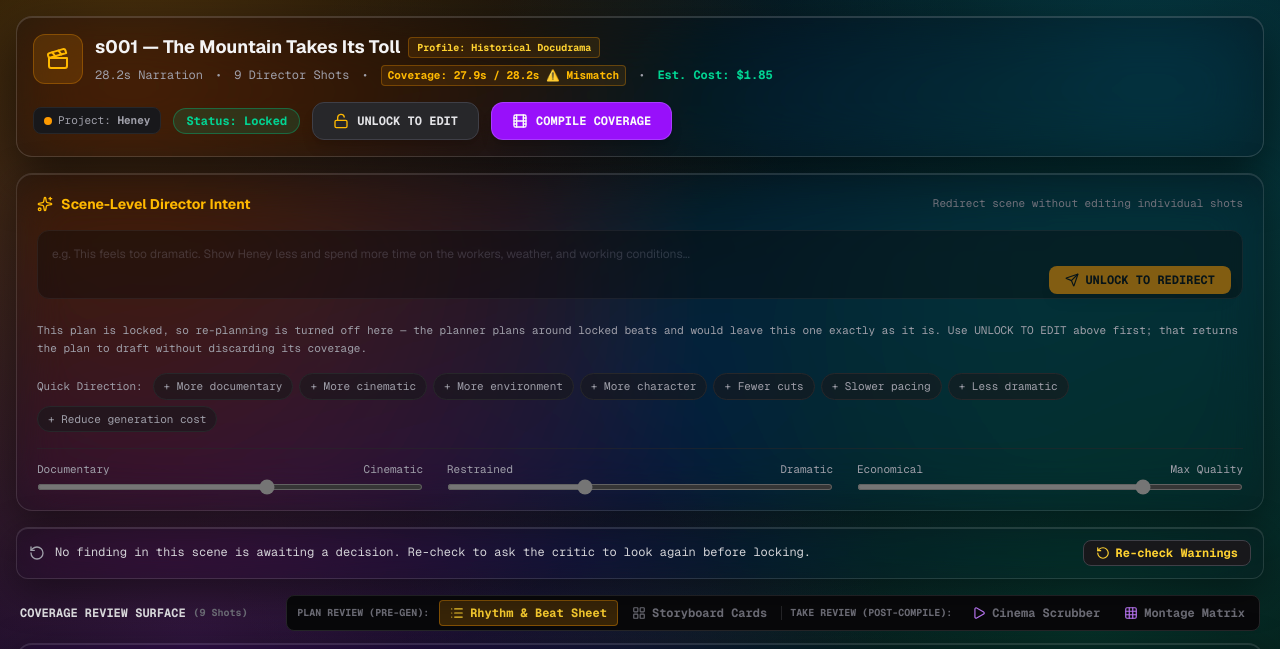
it: the compile is a long-running job › a second click cannot start a second compile for the same beat
Click the button with test id "compile-open-gate".
click(582, 121)  # box [491,102,672,140]
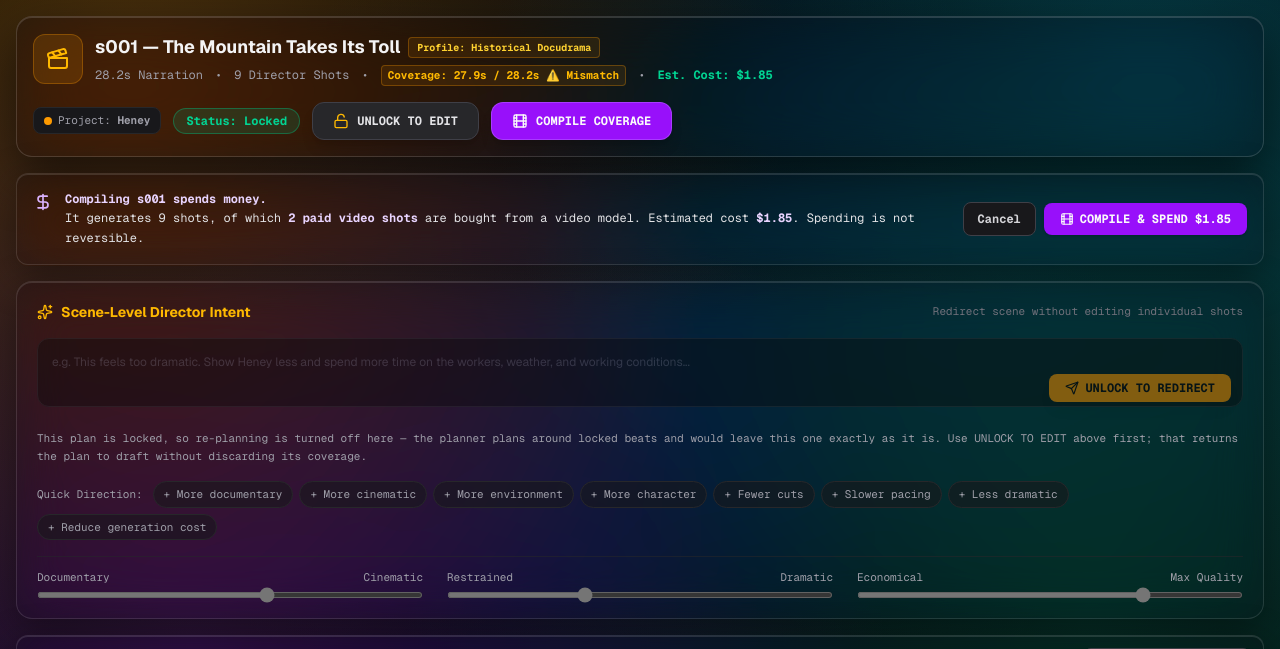
Click the button with test id "compile-confirm".
click(1145, 219)  # box [1044,203,1247,235]
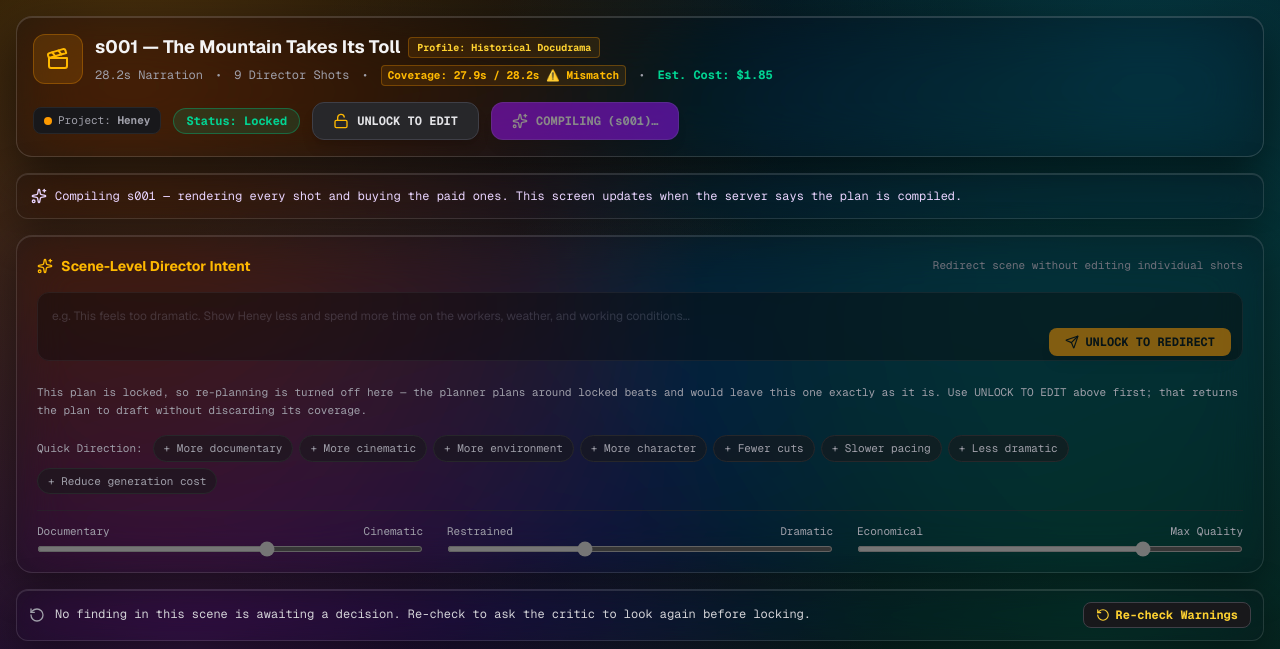
Check: the button with test id "compile-open-gate" is disabled
Click the button with test id "compile-open-gate".
click(585, 121)  # box [491,102,679,140]
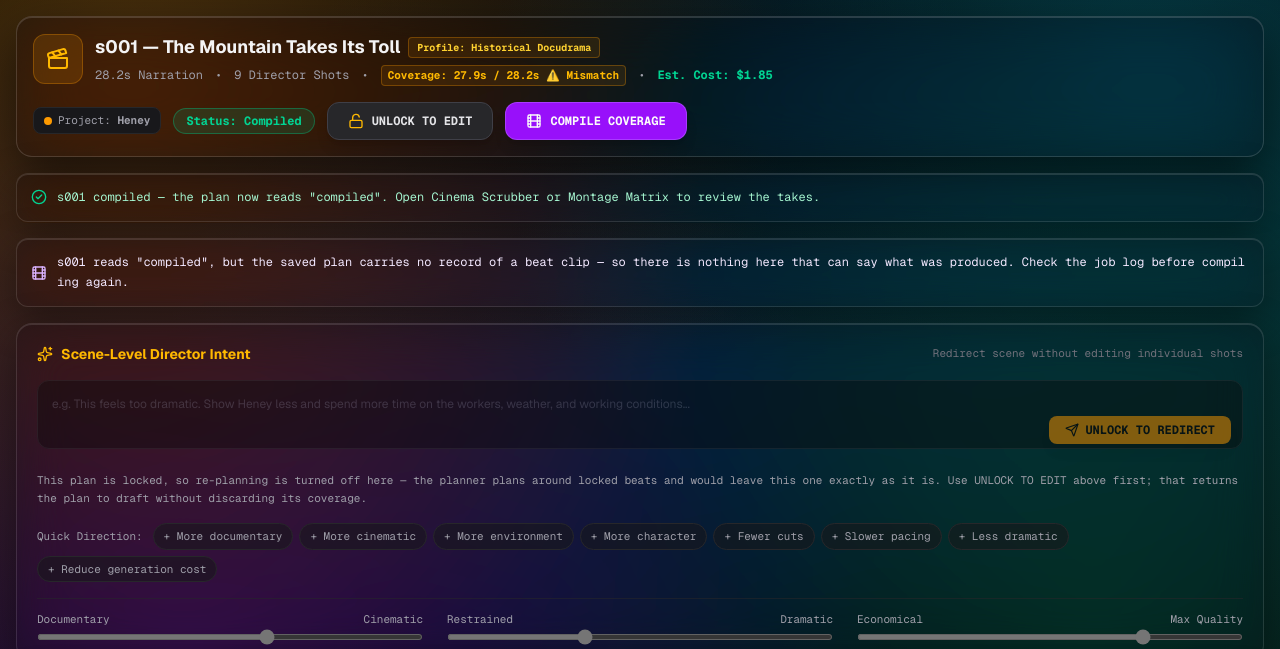
Check: the button with test id "compile-open-gate" is enabled, box [505,102,687,140]
